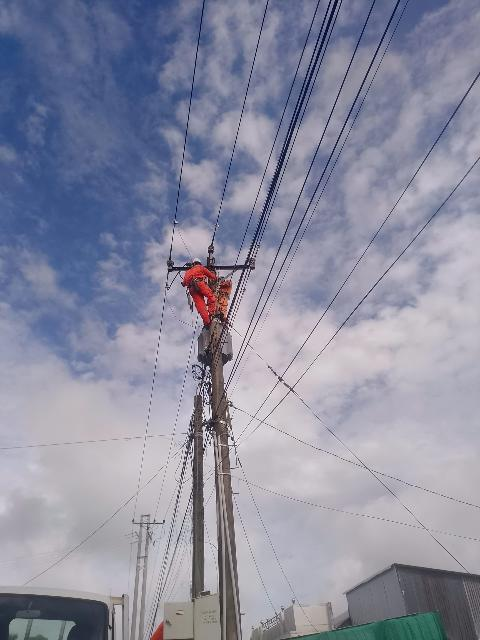harness: (184, 278, 212, 288)
helmet: (187, 255, 204, 264)
shoes: (206, 311, 226, 322)
